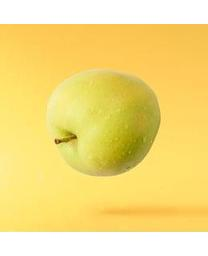apple: (45, 67, 160, 176)
